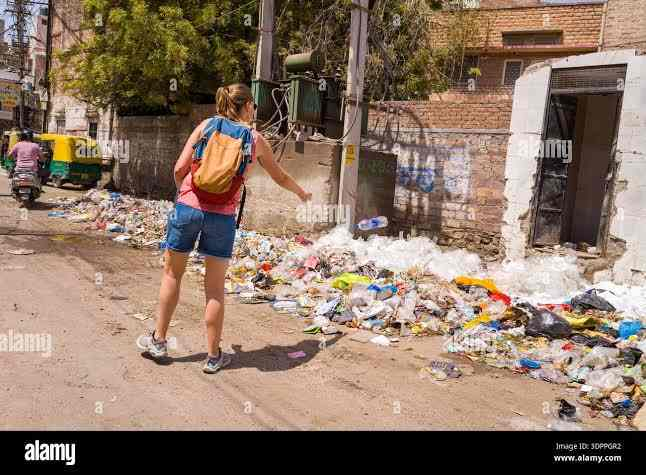general_waste: (78, 180, 646, 437)
